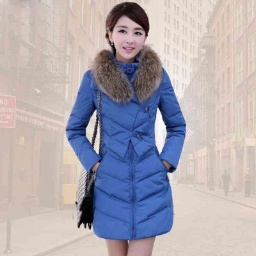face: (104, 2, 151, 61)
